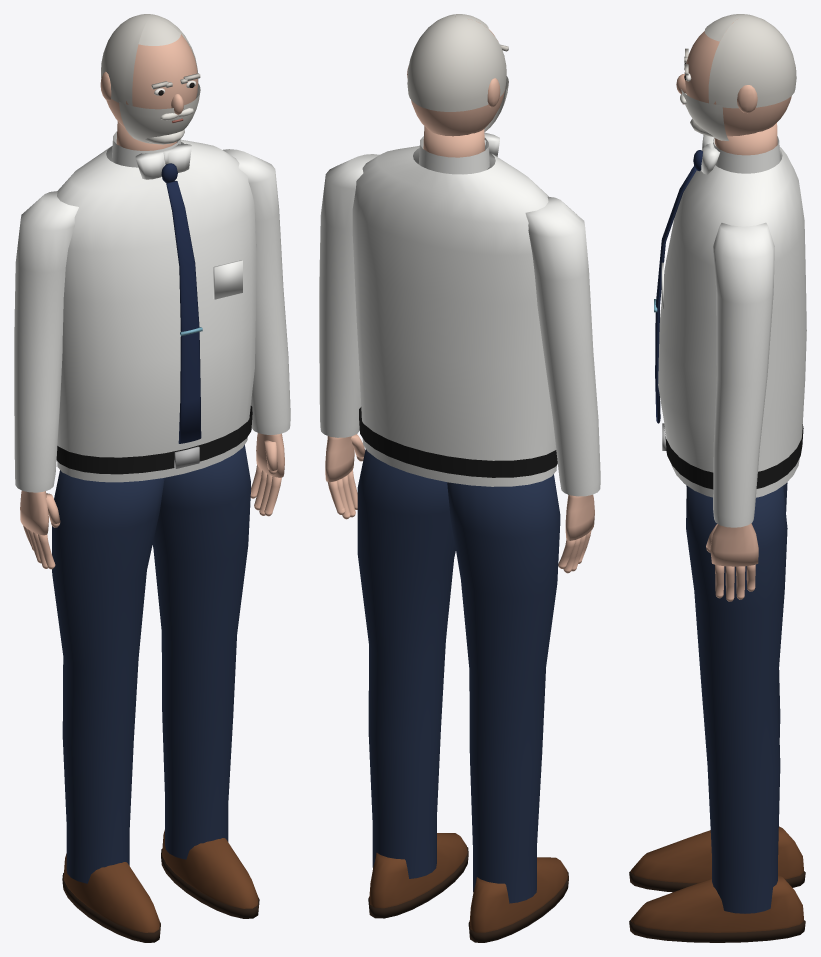
Rendered from npc_grump.glb.
3 views of the same model, side by side, from view 1: azimuth 30°, elevation 25°; view 2: azimuth 150°, elevation 25°; view 3: azimuth 270°, elevation 25° (orthographic).
Visible parts, largest first — view 1: Shirt, Leg_R, Leg_L, Arm_R, Arm_L, BeardHair, Head, Shoe_R, Shoe_L; view 2: Shirt, Leg_R, Leg_L, Arm_R, Arm_L, BeardHair, Shoe_R, Shoe_L, Head; view 3: Shirt, Leg_L, Arm_L, BeardHair, Shoe_L, Head, Shoe_R.
Boxes of the visible parts, x1=… form: Shirt: x1=56, y1=131, x2=256, y2=482; Leg_R: x1=52, y1=470, x2=164, y2=883; Leg_L: x1=152, y1=445, x2=250, y2=859; Arm_R: x1=14, y1=191, x2=78, y2=569; Arm_L: x1=223, y1=149, x2=290, y2=516; BeardHair: x1=101, y1=14, x2=200, y2=144; Head: x1=100, y1=34, x2=200, y2=150; Shoe_R: x1=62, y1=853, x2=160, y2=942; Shoe_L: x1=161, y1=830, x2=259, y2=918; Shirt: x1=352, y1=132, x2=557, y2=486; Leg_R: x1=447, y1=474, x2=560, y2=903; Leg_L: x1=357, y1=449, x2=455, y2=878; Arm_R: x1=525, y1=196, x2=600, y2=573; Arm_L: x1=319, y1=154, x2=379, y2=519; BeardHair: x1=407, y1=14, x2=508, y2=132; Shoe_R: x1=468, y1=857, x2=568, y2=942; Shoe_L: x1=368, y1=833, x2=468, y2=918; Head: x1=407, y1=19, x2=508, y2=157; Shirt: x1=654, y1=134, x2=806, y2=497; Leg_L: x1=686, y1=485, x2=787, y2=913; Arm_L: x1=706, y1=222, x2=774, y2=601; BeardHair: x1=680, y1=14, x2=796, y2=140; Shoe_L: x1=629, y1=875, x2=805, y2=942; Head: x1=676, y1=19, x2=791, y2=155; Shoe_R: x1=629, y1=826, x2=805, y2=892.
Size of the model in its own units: 0.5933 by 1.83 by 0.331.
